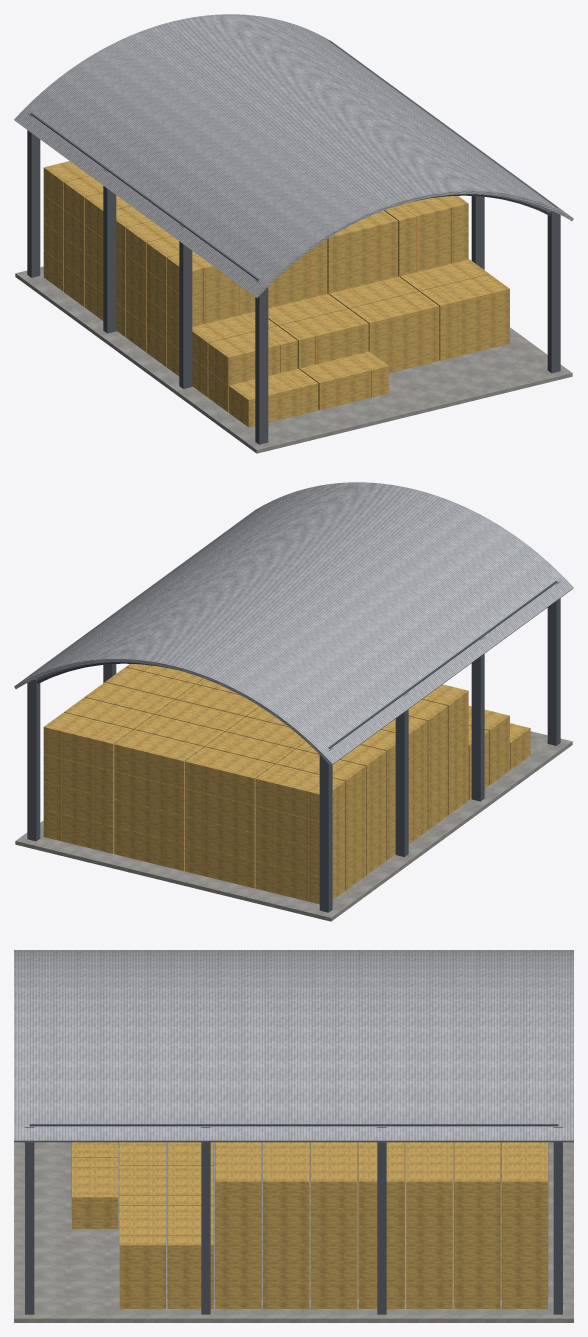
File: hay-barn.glb
3 views of the same model, one above another, from view 1: azimuth 30°, elevation 25°; view 2: azimuth 150°, elevation 25°; view 3: azimuth 270°, elevation 25° (orthographic). The views are drawn at different scales.
Visible parts, largest first — view 1: HayBarn; view 2: HayBarn; view 3: HayBarn.
Part boxes in pixels (box(x1,y1,x2,y2)): HayBarn: box(14, 14, 573, 453); HayBarn: box(14, 482, 573, 921); HayBarn: box(14, 950, 573, 1322).
Size of the model in its own units: 10.9 by 7.1 by 14.3.
5 materials, 3 textured.
